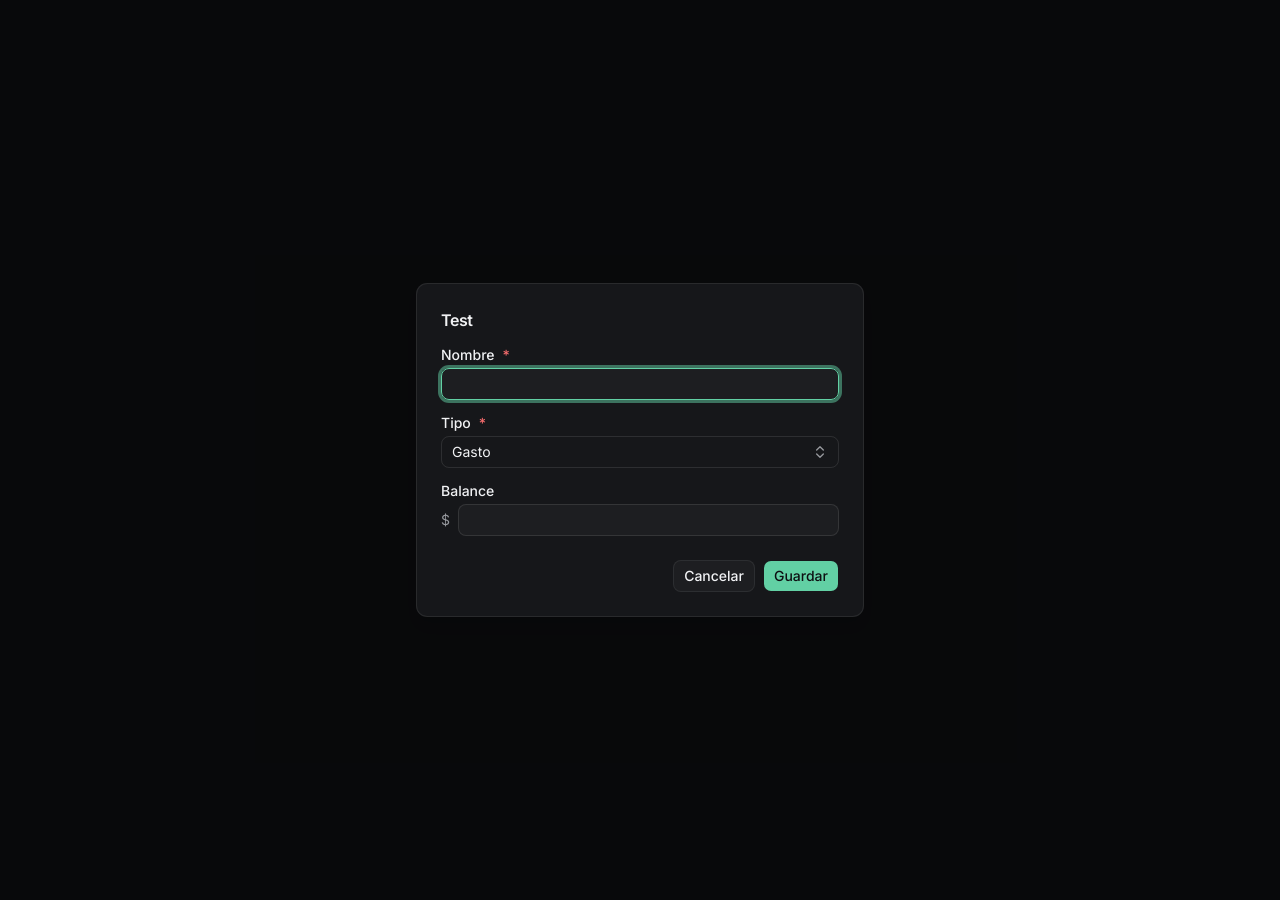
Test: EntityFormDialog › clears validation error after the user types
Step 1. Click the button "Guardar" → (801, 576), box [763,560,839,592]
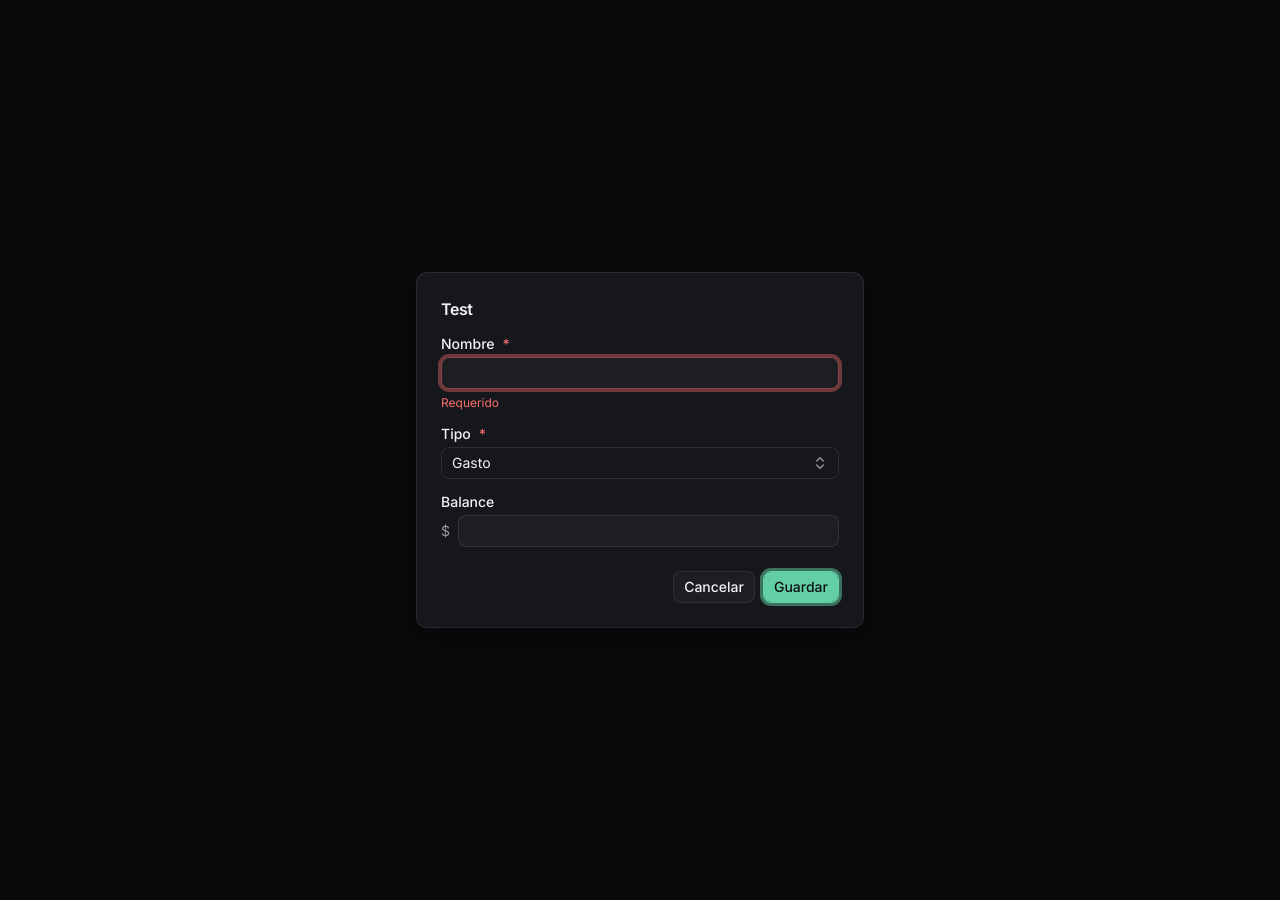
Now the text "Requerido" is shown, box [441,395,499,410]
Step 2. Type "X" into the field labelled "Nombre *" → (640, 373), box [441,357,839,389]
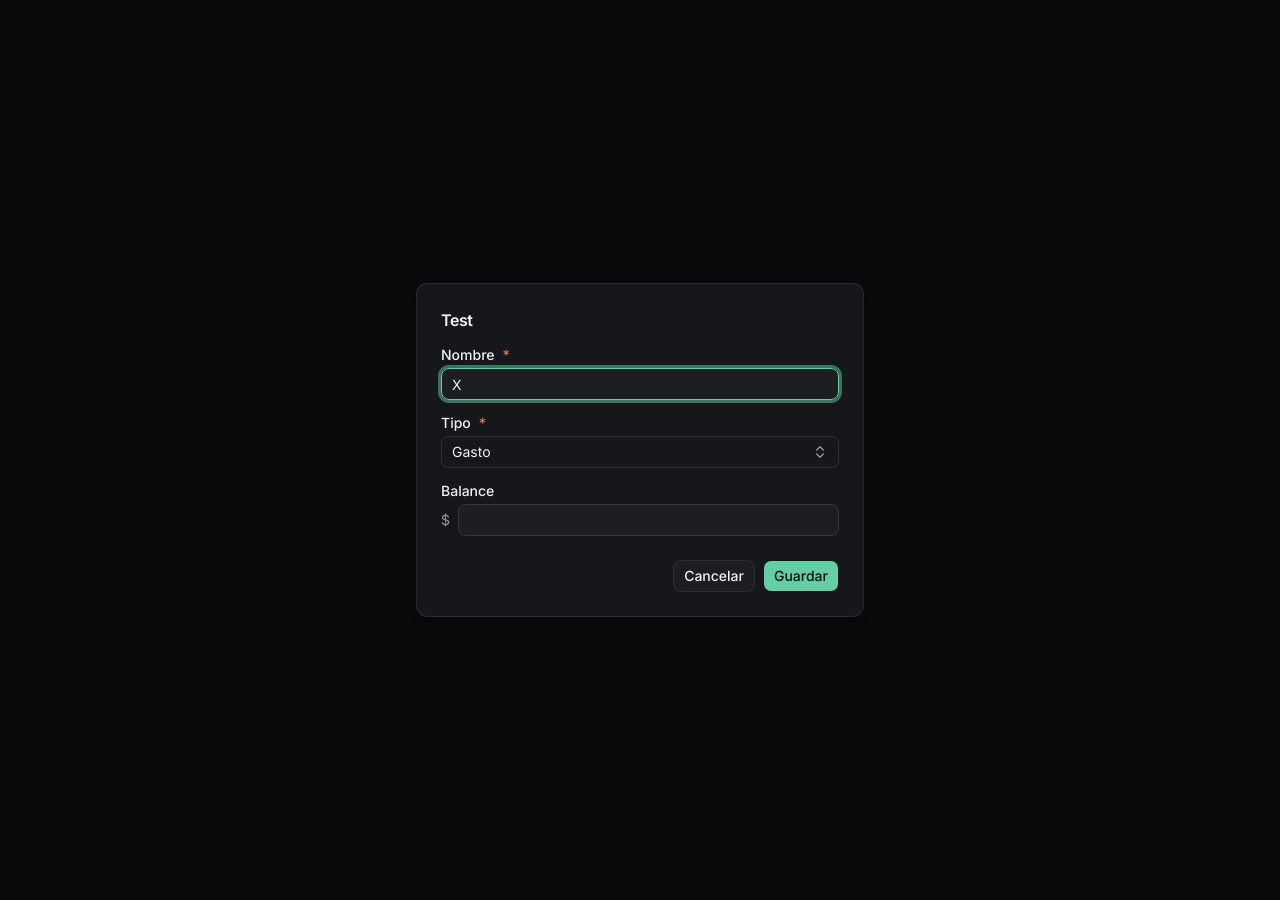
Now the text "Requerido" is gone
